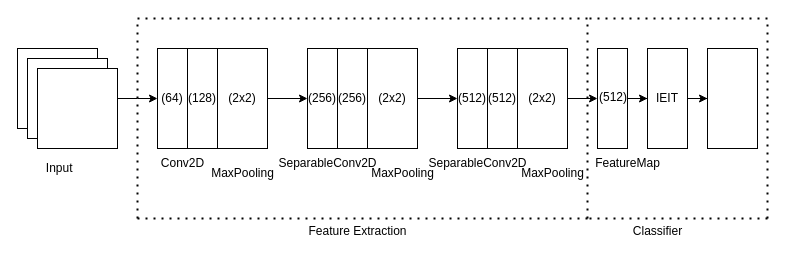
Some shapes in this 787 by 263 pixel diagram are drawn without their labels. The centre of each missing label's shape, as x and y in pixels:
"(64x64)" goes at point (77, 108).
"Decisive Rules" goes at point (732, 98).
